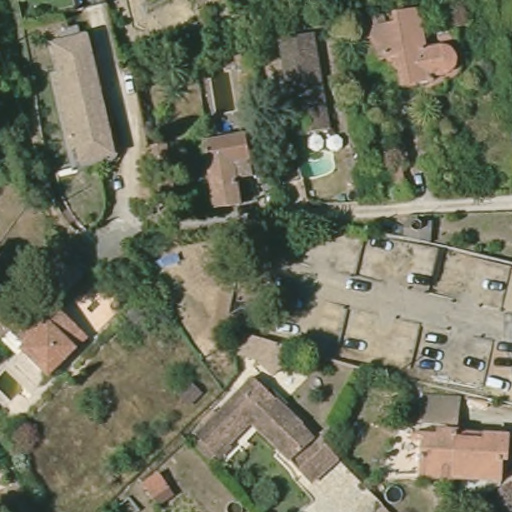pool: (293, 147, 339, 184)
